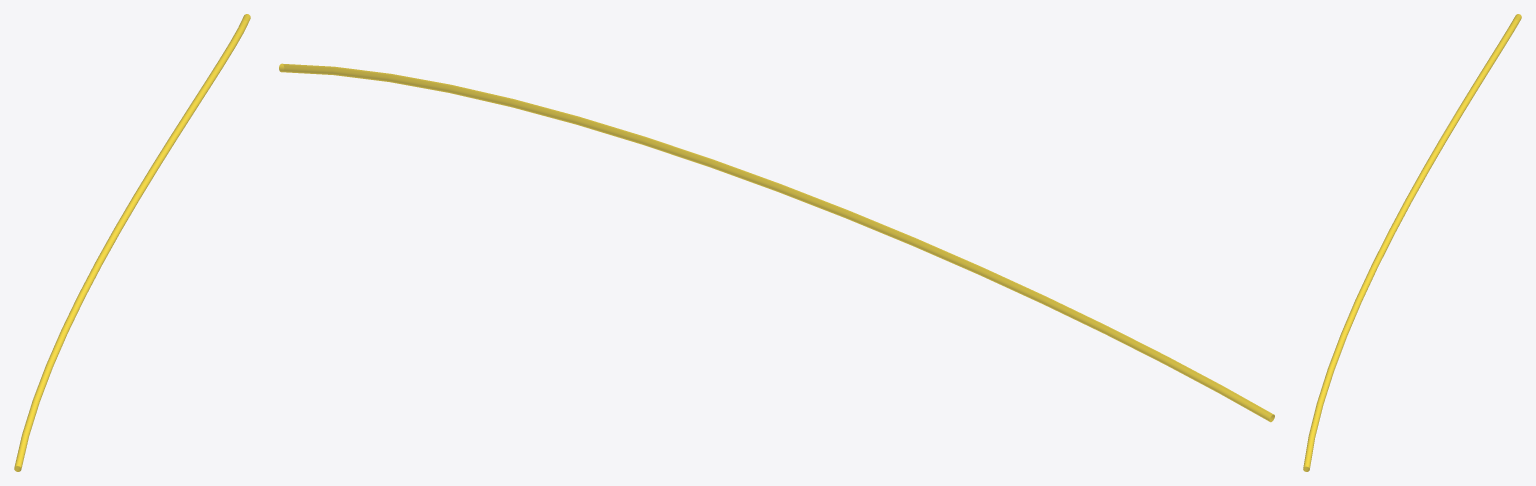
Rendered from Event_419990632_track_85.fbx.
The picture shows the model from 3 angles, left to right: view 1: azimuth 90°, elevation 25°; view 2: azimuth 150°, elevation 25°; view 3: azimuth 270°, elevation 25°; orthographic projection. The views are drawn at different scales.
Visible parts, largest first — view 1: Model; view 2: Model; view 3: Model.
Boxes of the visible parts, <box> form: Model: <box>14,14,250,471</box>; Model: <box>279,63,1274,422</box>; Model: <box>1303,14,1521,471</box>.
Size of the model in its own units: 6.09 by 0.3768 by 1.29.
